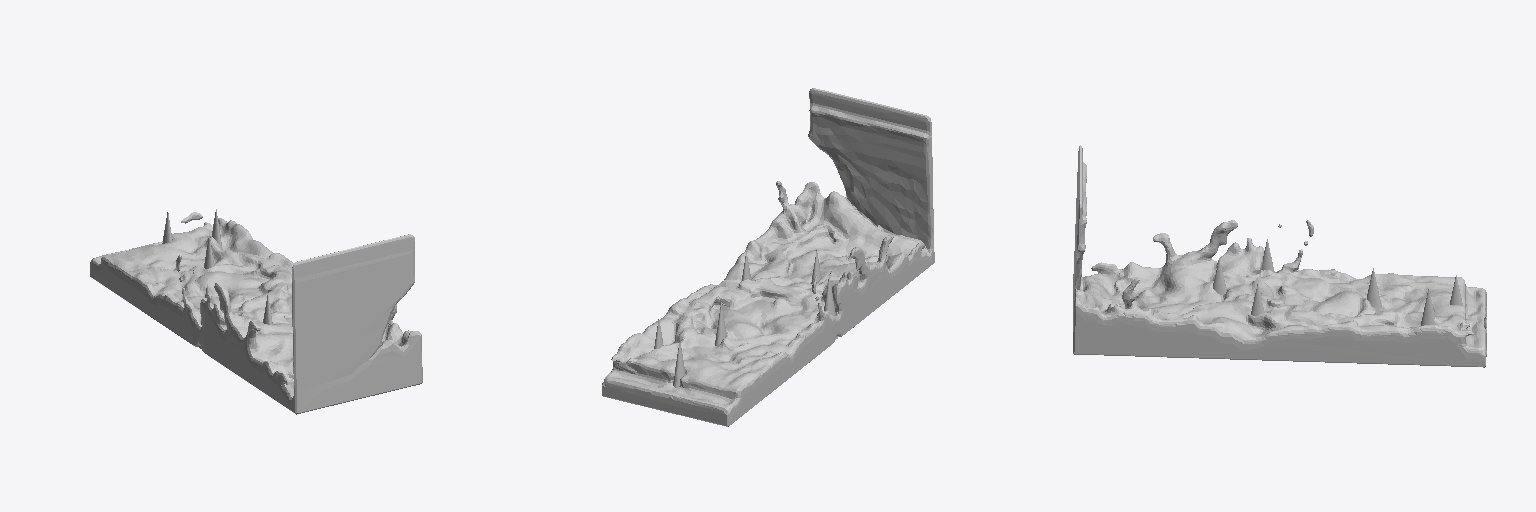
3 views of the same model, side by side, from view 1: azimuth 30°, elevation 25°; view 2: azimuth 150°, elevation 25°; view 3: azimuth 270°, elevation 25° (orthographic).
Visible parts, largest first — view 1: Liquid_Domain; view 2: Liquid_Domain; view 3: Liquid_Domain.
Part boxes in pixels (x1,y1,x2,y2): Liquid_Domain: (90,212,422,414); Liquid_Domain: (602,88,934,426); Liquid_Domain: (1073,145,1486,367).
Size of the model in its own units: 129 by 158 by 362.